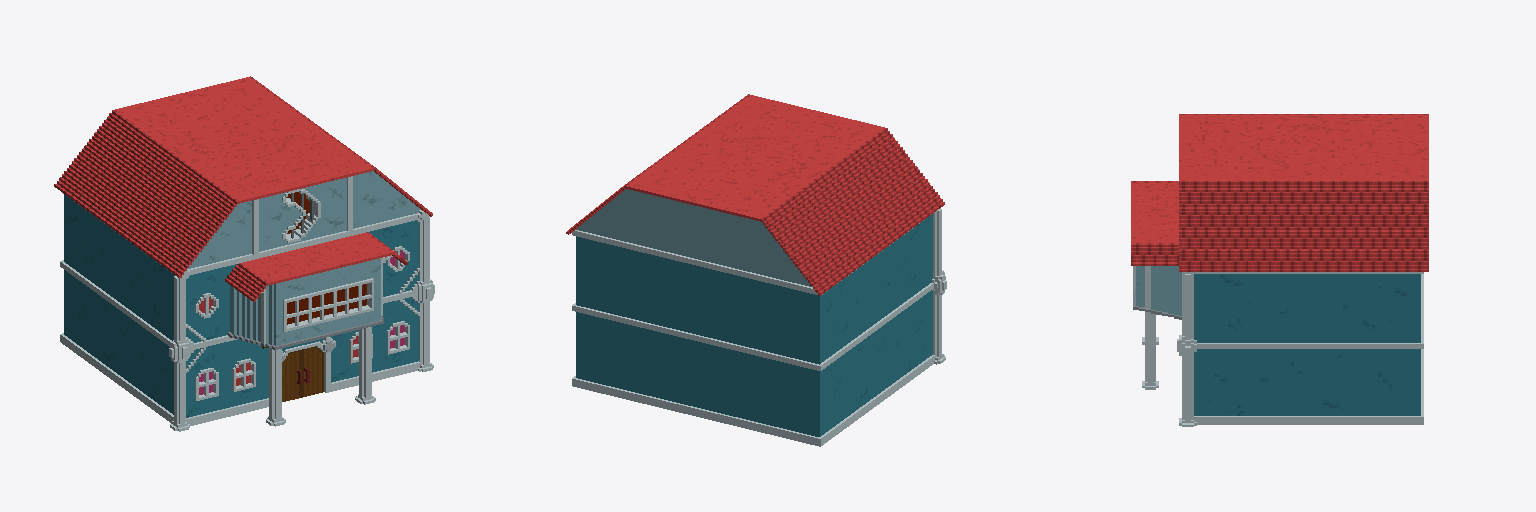
3 views of the same model, side by side, from view 1: azimuth 30°, elevation 25°; view 2: azimuth 150°, elevation 25°; view 3: azimuth 270°, elevation 25° (orthographic).
Visible parts, largest first — view 1: object 1; view 2: object 1; view 3: object 1.
Part boxes in pixels (left/top/right/bottom): object 1: left=54, top=76, right=434, bottom=431; object 1: left=566, top=94, right=946, bottom=446; object 1: left=1131, top=114, right=1428, bottom=426.
Size of the model in its own units: 10.6 by 8.3 by 10.4.
Materials: 1 (1 with a texture image).